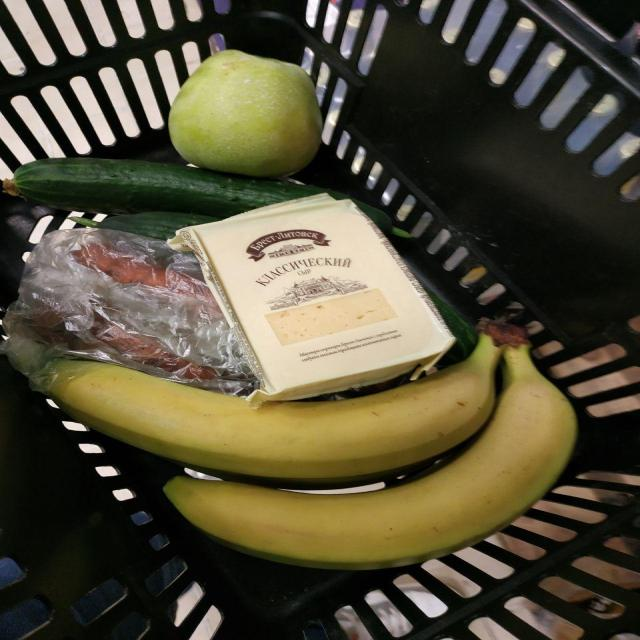Apple: (168, 50, 323, 177)
Banana: (165, 345, 577, 570), (48, 334, 502, 482)
Carrot: (90, 314, 217, 379), (73, 244, 167, 287)
Cheese: (168, 194, 455, 406)
Cucumber: (3, 158, 347, 218), (70, 211, 218, 240), (425, 288, 477, 365)
